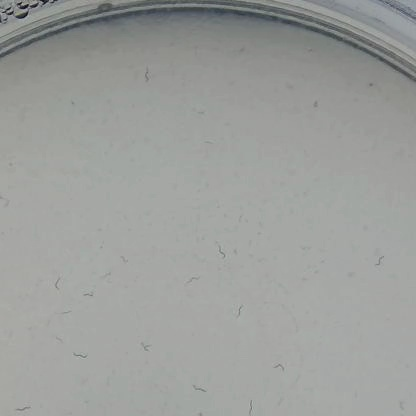worm: (183, 273, 203, 291), (215, 241, 232, 262), (371, 251, 389, 268), (232, 301, 248, 320), (140, 67, 154, 86), (185, 385, 211, 395), (393, 398, 409, 414), (242, 398, 256, 416), (69, 349, 93, 359), (271, 361, 289, 374), (95, 269, 113, 281), (12, 404, 33, 414), (49, 277, 64, 291), (139, 340, 155, 352), (50, 335, 67, 345), (0, 196, 13, 209), (80, 289, 94, 301), (116, 255, 128, 269)
